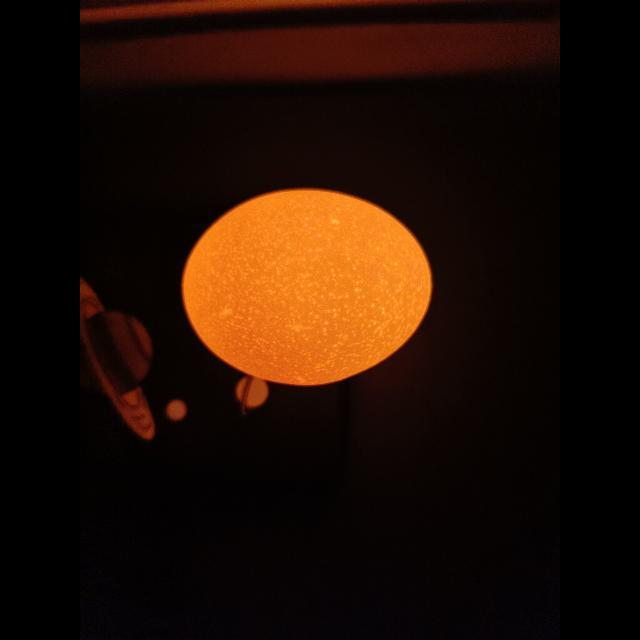AA - Premium: (183, 189, 433, 385)
